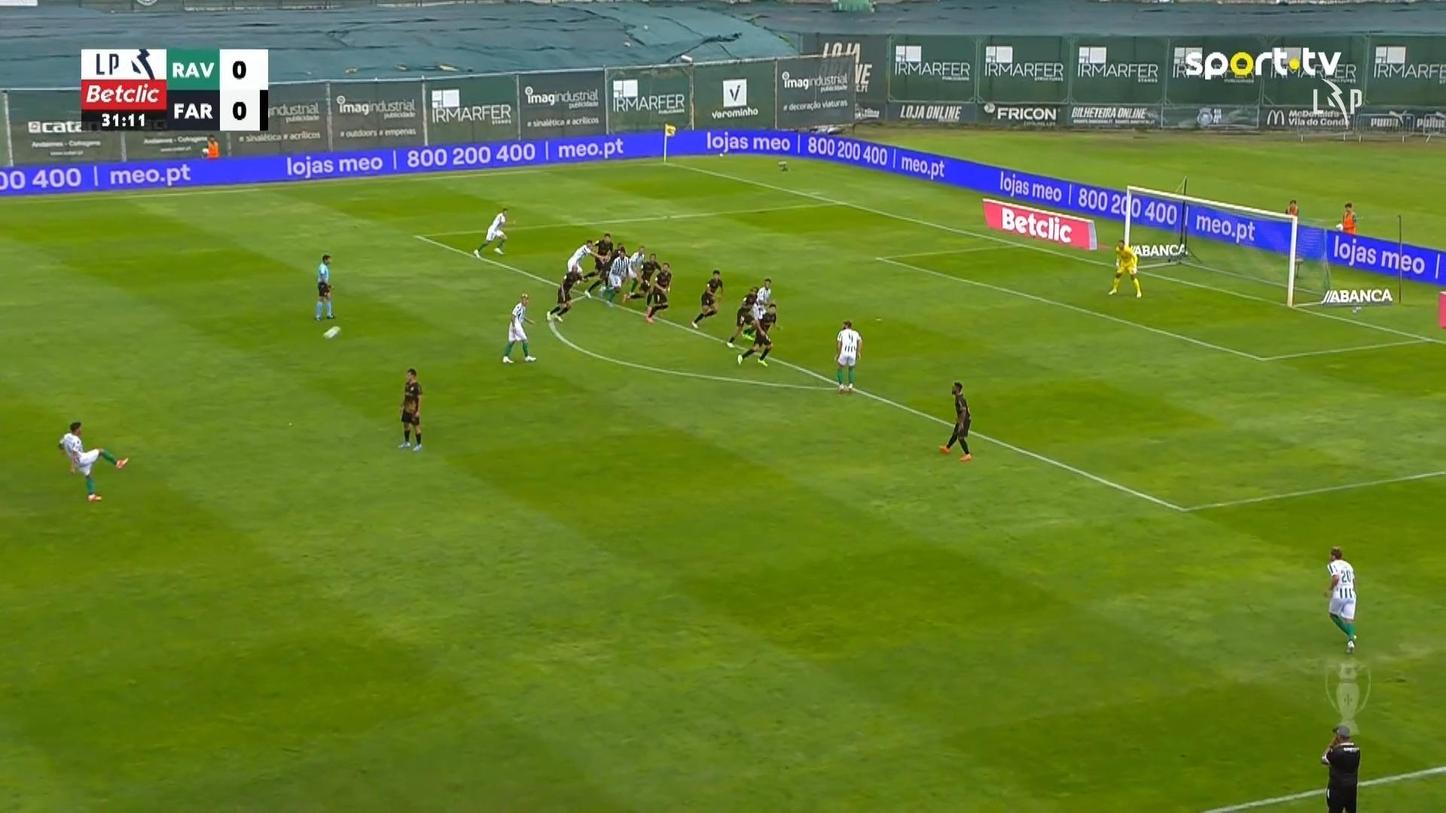ball: (322, 325, 340, 339)
goalkeeper: (1107, 238, 1142, 297)
player: (57, 420, 129, 501), (1322, 545, 1357, 653), (736, 300, 779, 367), (938, 380, 972, 461), (502, 292, 536, 364), (547, 267, 587, 322), (397, 367, 423, 451), (471, 206, 512, 259), (834, 318, 862, 392), (725, 286, 758, 348), (584, 232, 614, 298), (691, 269, 723, 329), (602, 244, 631, 306), (624, 250, 659, 301), (644, 260, 672, 323), (567, 237, 597, 285)
referee: (1319, 723, 1360, 811), (314, 253, 335, 321)
